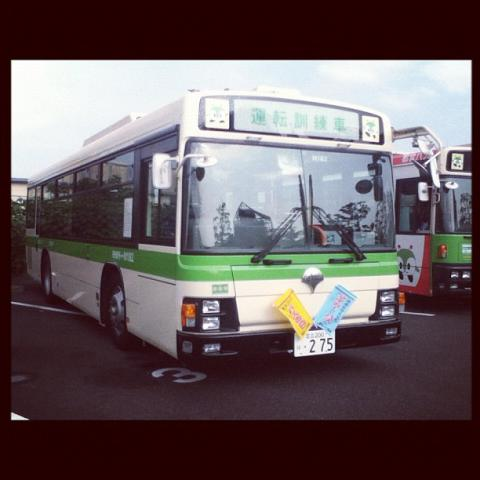bus: (17, 84, 405, 372), (406, 145, 472, 297)
